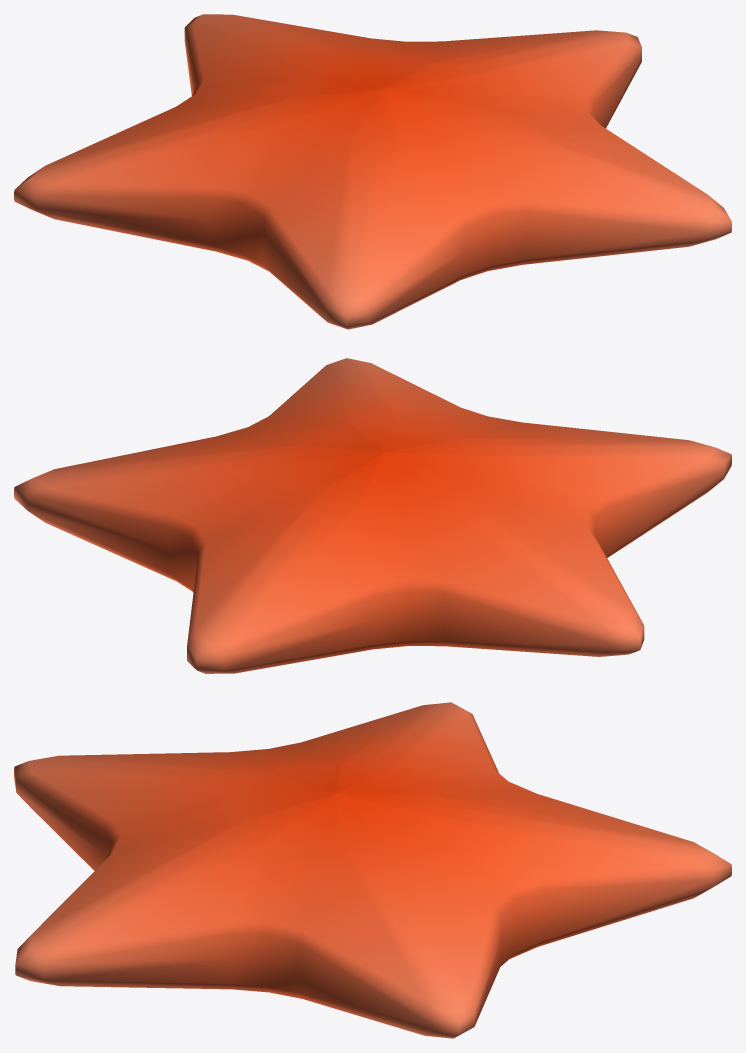
The model's file is Star_01.fbx.
3 renders of one model, top to bottom at view 1: azimuth 30°, elevation 25°; view 2: azimuth 150°, elevation 25°; view 3: azimuth 270°, elevation 25°, orthographic. The views are drawn at different scales.
Parts seen in each view (by area): view 1: Star_01; view 2: Star_01; view 3: Star_01.
Boxes of the visible parts, x1,y1,x2,y2 form: Star_01: [14, 14, 731, 329]; Star_01: [14, 358, 731, 673]; Star_01: [14, 702, 731, 1038].
Bounding box in the file's own units: 84.97 × 16.26 × 80.89.
